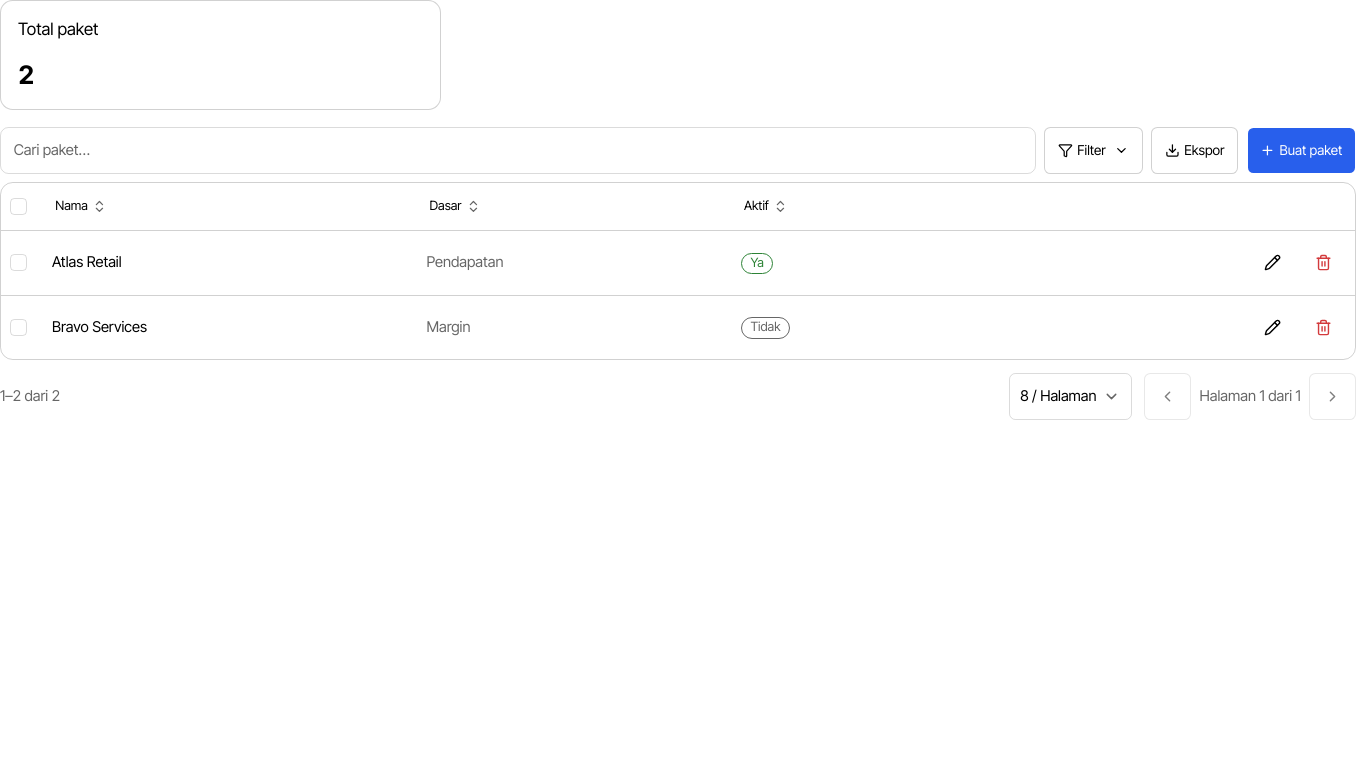
Test case: CommissionPlansSection › opens the create dialog from the add button
Expected: the link "Atlas Retail" is shown, [52,253,122,271]
Click the button "Buat paket": (1301, 150) [1247,127,1356,174]
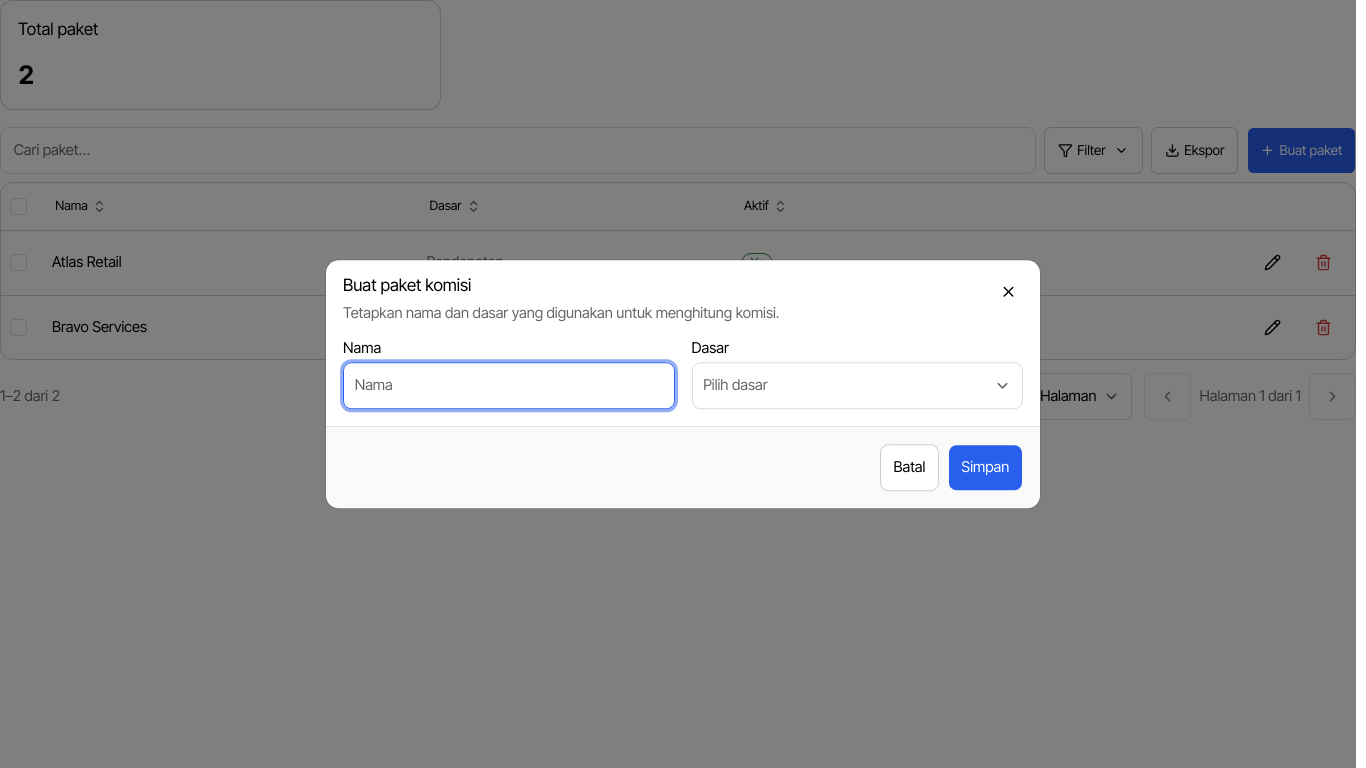
Now the heading "Buat paket komisi" is shown, box [343,275,471,295]
